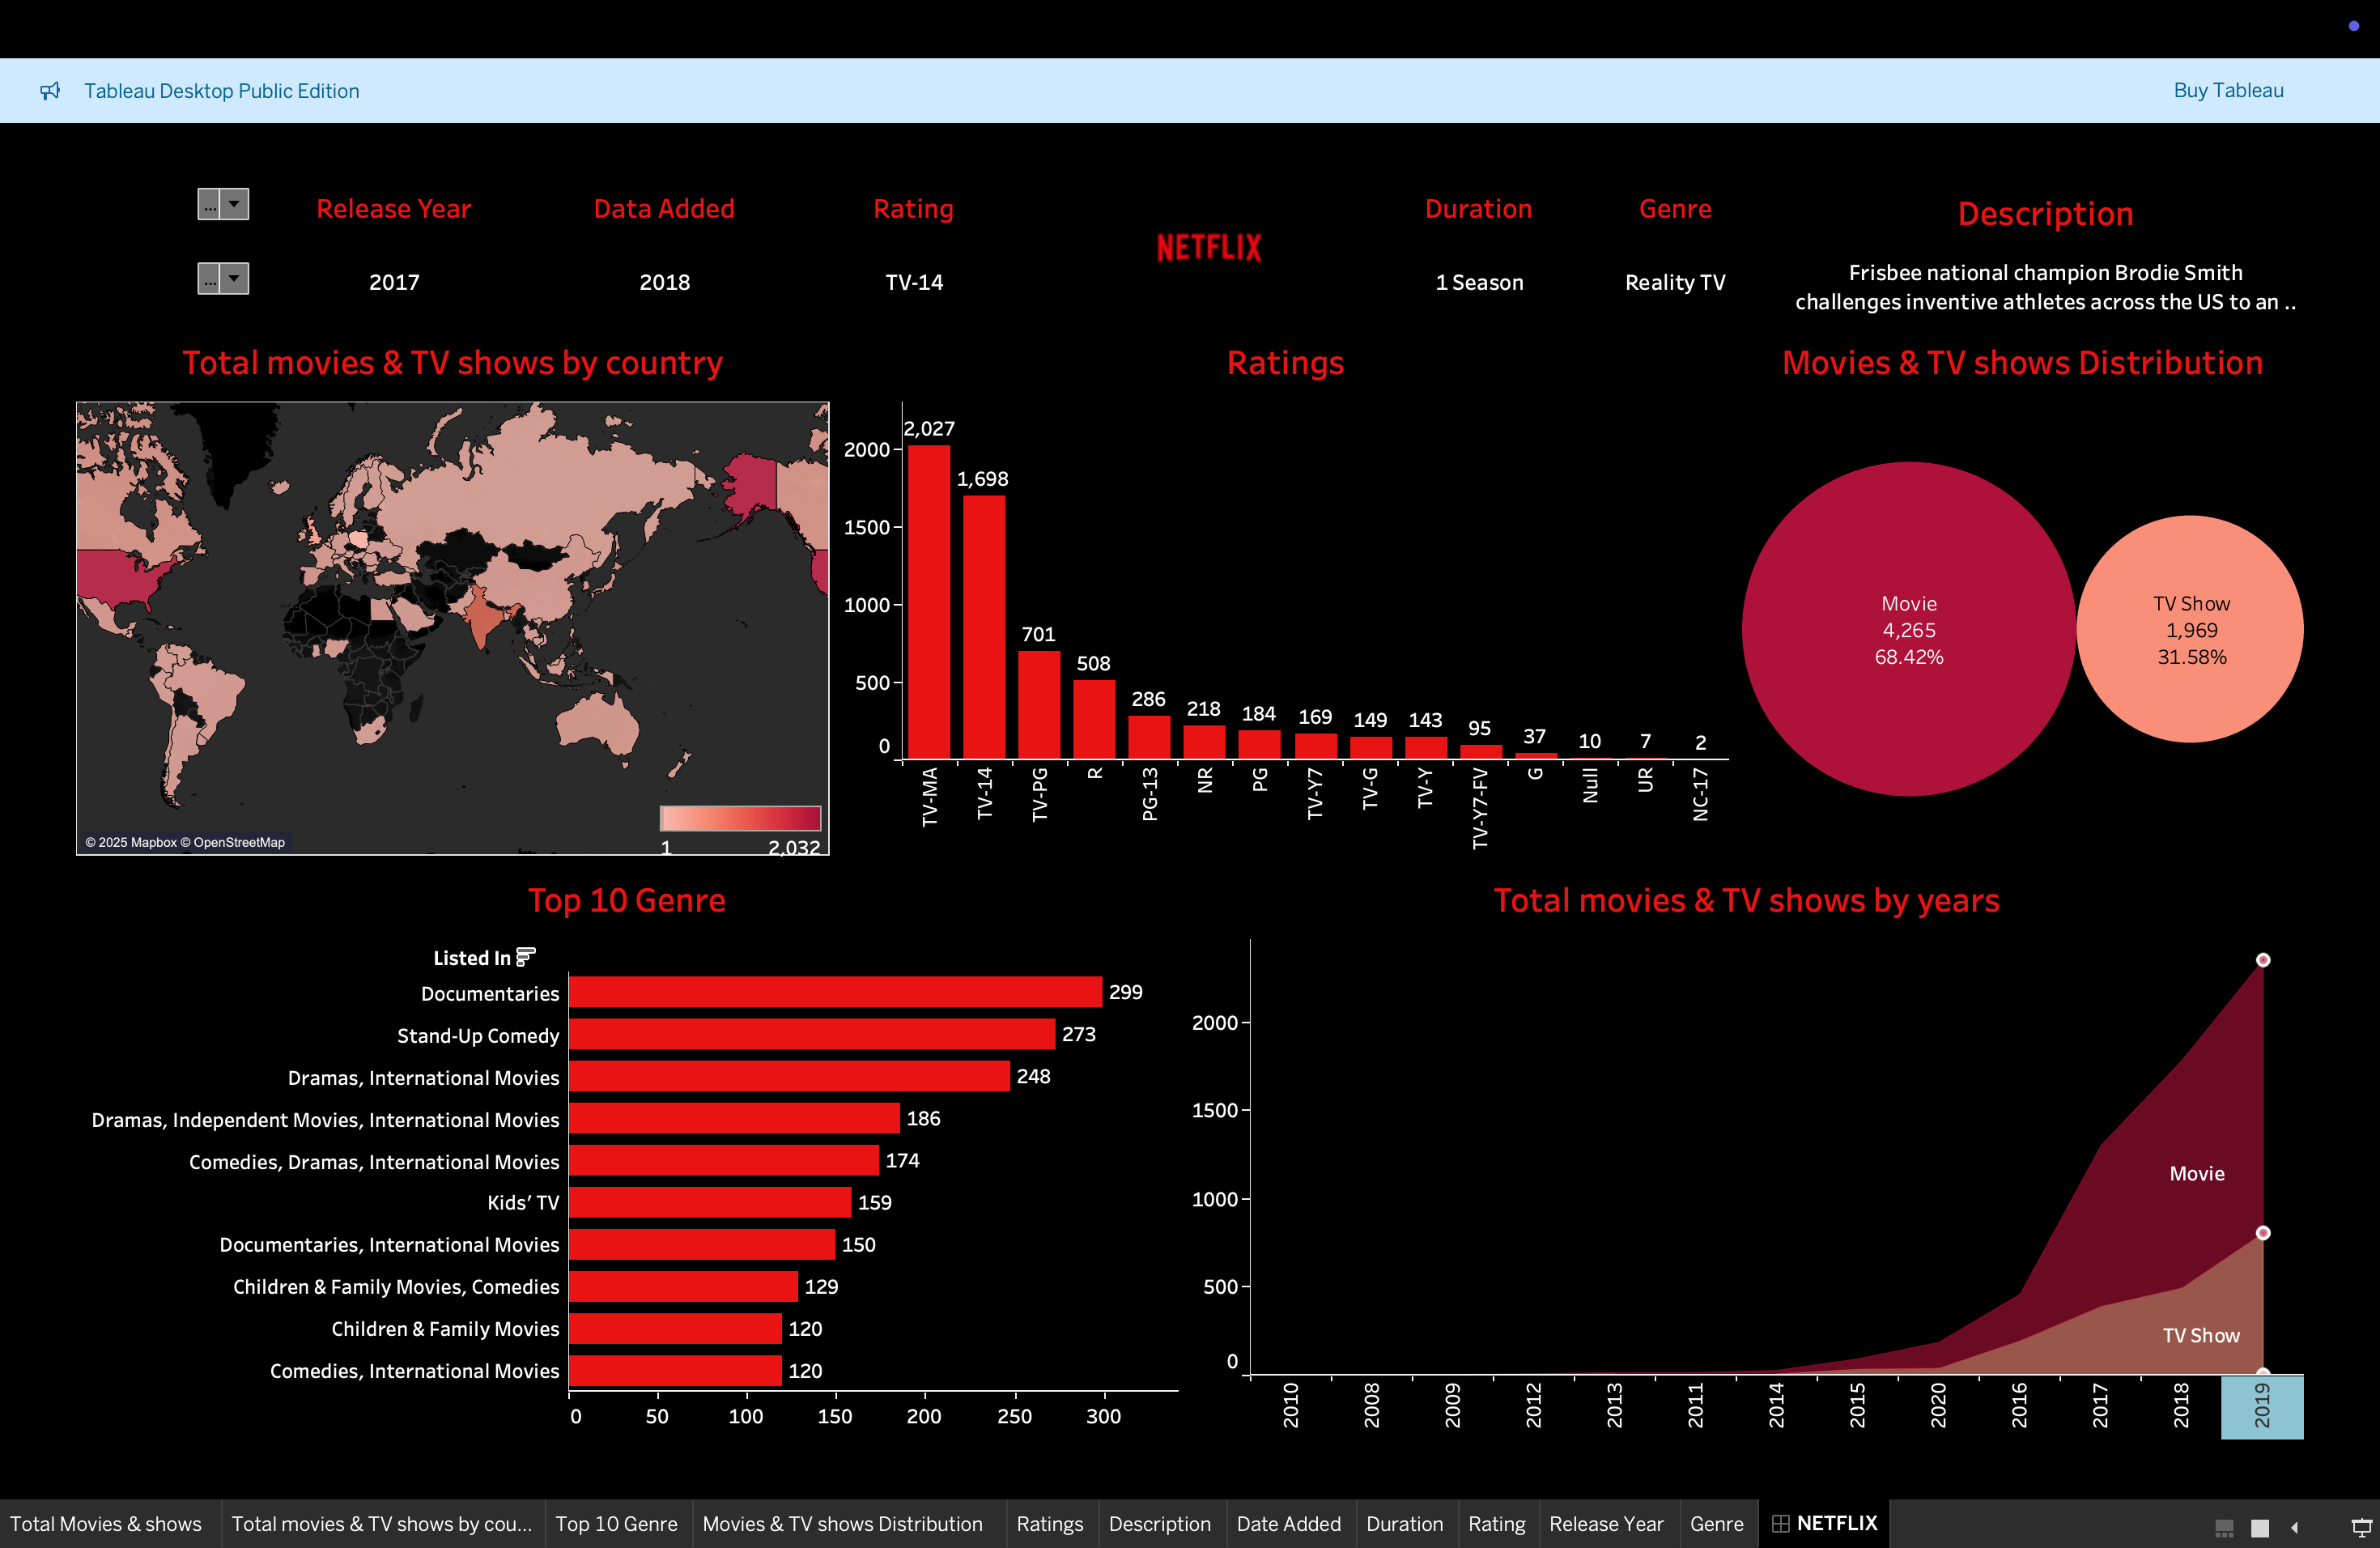

The page's visual inventory and layout, read from the dashboard file:
{"tool":"tableau","page":{"name":"NETFLIX","canvas":[1400,800],"ordinal":0},"visuals":[{"type":"filter","title":"Description","param":"[federated.1uhknfy02nq1v71e577qf0se501e].[none:type:nk]","box":[8,8,118.5,46.1]},{"type":"worksheet","title":"Release Year","mark":"Automatic","box":[126.5,8,164.5,92.2]},{"type":"worksheet","title":"Date Added","mark":"Automatic","box":[291,8,169,92.2]},{"type":"worksheet","title":"Rating","mark":"Automatic","box":[460,8,139.5,92.2]},{"type":"image","param":"/Users/monishrr/Downloads/safari/Untitled design.png","box":[599.5,8,223.6,92.2]},{"type":"worksheet","title":"Duration","mark":"Automatic","box":[823,8,111,92.2]},{"type":"worksheet","title":"Genre","mark":"Automatic","box":[934,8,132,92.2]},{"type":"worksheet","title":"Description","mark":"Automatic","box":[1066,8,326,92.2]},{"type":"filter","title":"Description","param":"[federated.1uhknfy02nq1v71e577qf0se501e].[none:title:nk]","box":[8,54.1,118.5,46.1]},{"type":"worksheet","title":"Total movies & TV shows by country","mark":"Multipolygon","box":[8,100.2,474,331.7]},{"type":"worksheet","title":"Ratings","mark":"Automatic","rows":["show_id"],"cols":["rating"],"box":[481.9,100.2,555,331.7]},{"type":"worksheet","title":"Movies & TV shows Distribution","mark":"Circle","box":[1036.9,100.2,355.1,331.7]},{"type":"legend","title":"Total movies & TV shows by country","param":"[federated.1uhknfy02nq1v71e577qf0se501e].[ctd:show_id:qk]","box":[369,392.9,108,34.7]},{"type":"worksheet","title":"Top 10 Genre","mark":"Automatic","rows":["listed_in"],"cols":["show_id"],"box":[8,431.9,689,360.1]},{"type":"worksheet","title":"Total Movies & shows","mark":"Area","rows":["show_id"],"cols":["date_added"],"box":[697,431.9,695,360.1]}]}

Visuals, with their boxes on the page's 1400x800 design canvas (x1, y1, x2, y2). These are canvas units, not pixel positions in the 2380x1548 screenshot, which may show the page scaled, cropped or inside an application window:
"Description" filter: <box>8,8,126,54</box>
"Release Year" worksheet: <box>126,8,291,100</box>
"Date Added" worksheet: <box>291,8,460,100</box>
"Rating" worksheet: <box>460,8,600,100</box>
image: <box>600,8,823,100</box>
"Duration" worksheet: <box>823,8,934,100</box>
"Genre" worksheet: <box>934,8,1066,100</box>
"Description" worksheet: <box>1066,8,1392,100</box>
"Description" filter: <box>8,54,126,100</box>
"Total movies & TV shows by country" worksheet (Multipolygon marks): <box>8,100,482,432</box>
"Ratings" worksheet: <box>482,100,1037,432</box>
"Movies & TV shows Distribution" worksheet (Circle marks): <box>1037,100,1392,432</box>
"Total movies & TV shows by country" legend: <box>369,393,477,428</box>
"Top 10 Genre" worksheet: <box>8,432,697,792</box>
"Total Movies & shows" worksheet (Area marks): <box>697,432,1392,792</box>
